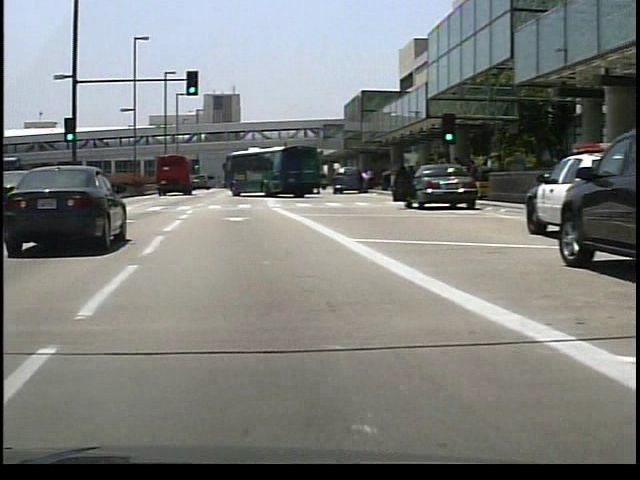person: (355, 168, 366, 193)
